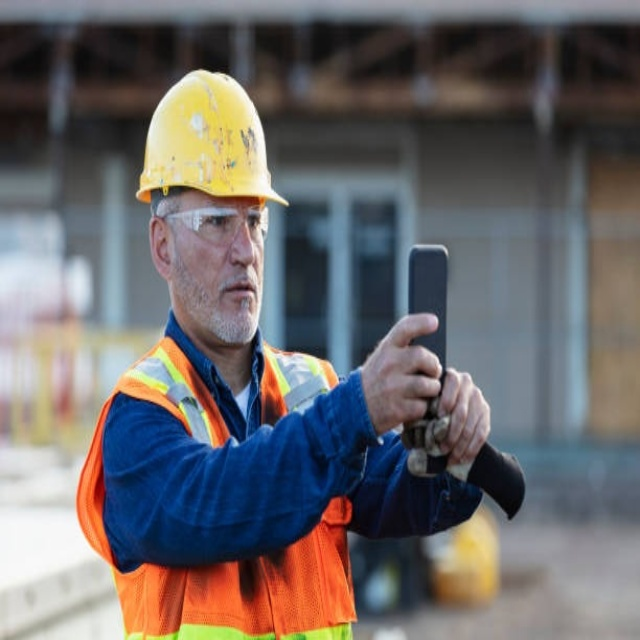Gafas: (168, 202, 274, 248)
Sin_guantes: (368, 314, 443, 427), (421, 363, 492, 474)
Sin_mascara: (208, 277, 259, 328)
